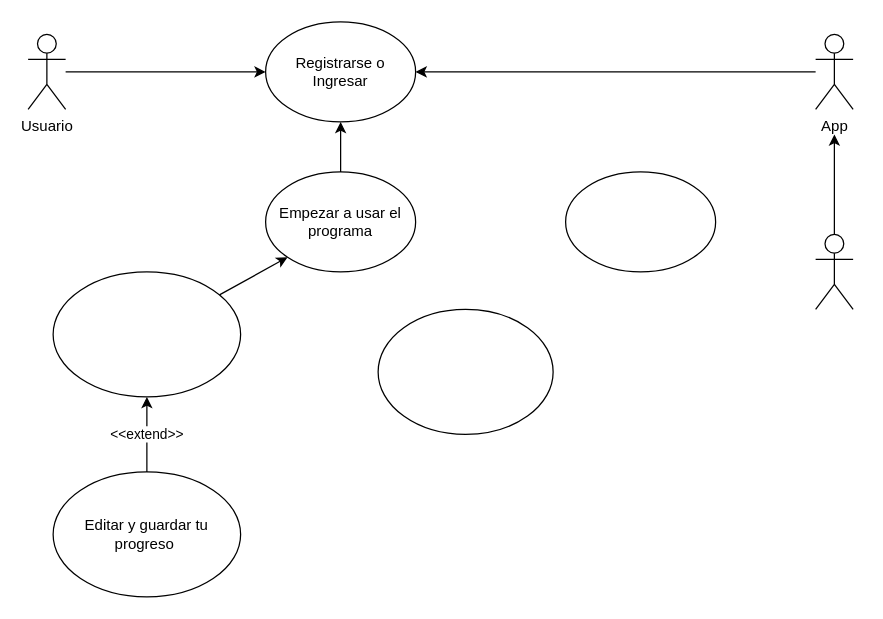
Image size: 883x619. Some labels were removed from this diagram. The shapes that lost their labels are listed below. From the top down, each one's centre as x and y in pixels, then its label:
the point at 833,271: Palanca
the point at 146,334: Tocar notas la guitarra virtual del juego
the point at 465,371: Empezar a reproducir todas las notas conjuntas
